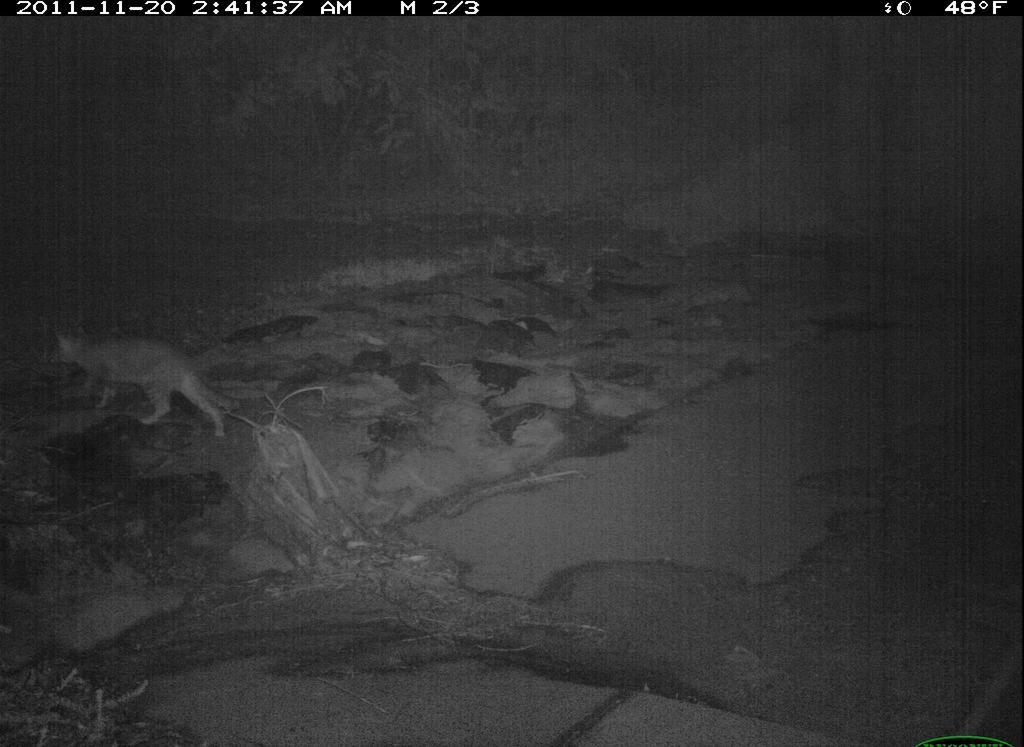cat: (44, 314, 235, 438)
